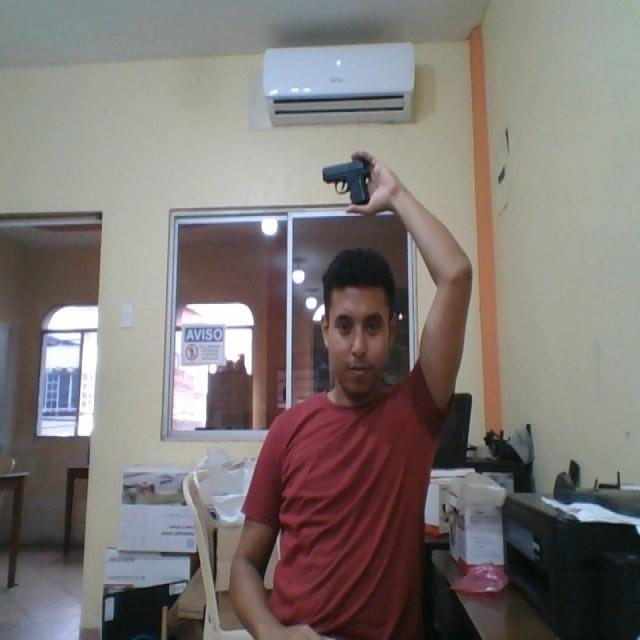weapon: (322, 156, 372, 207)
